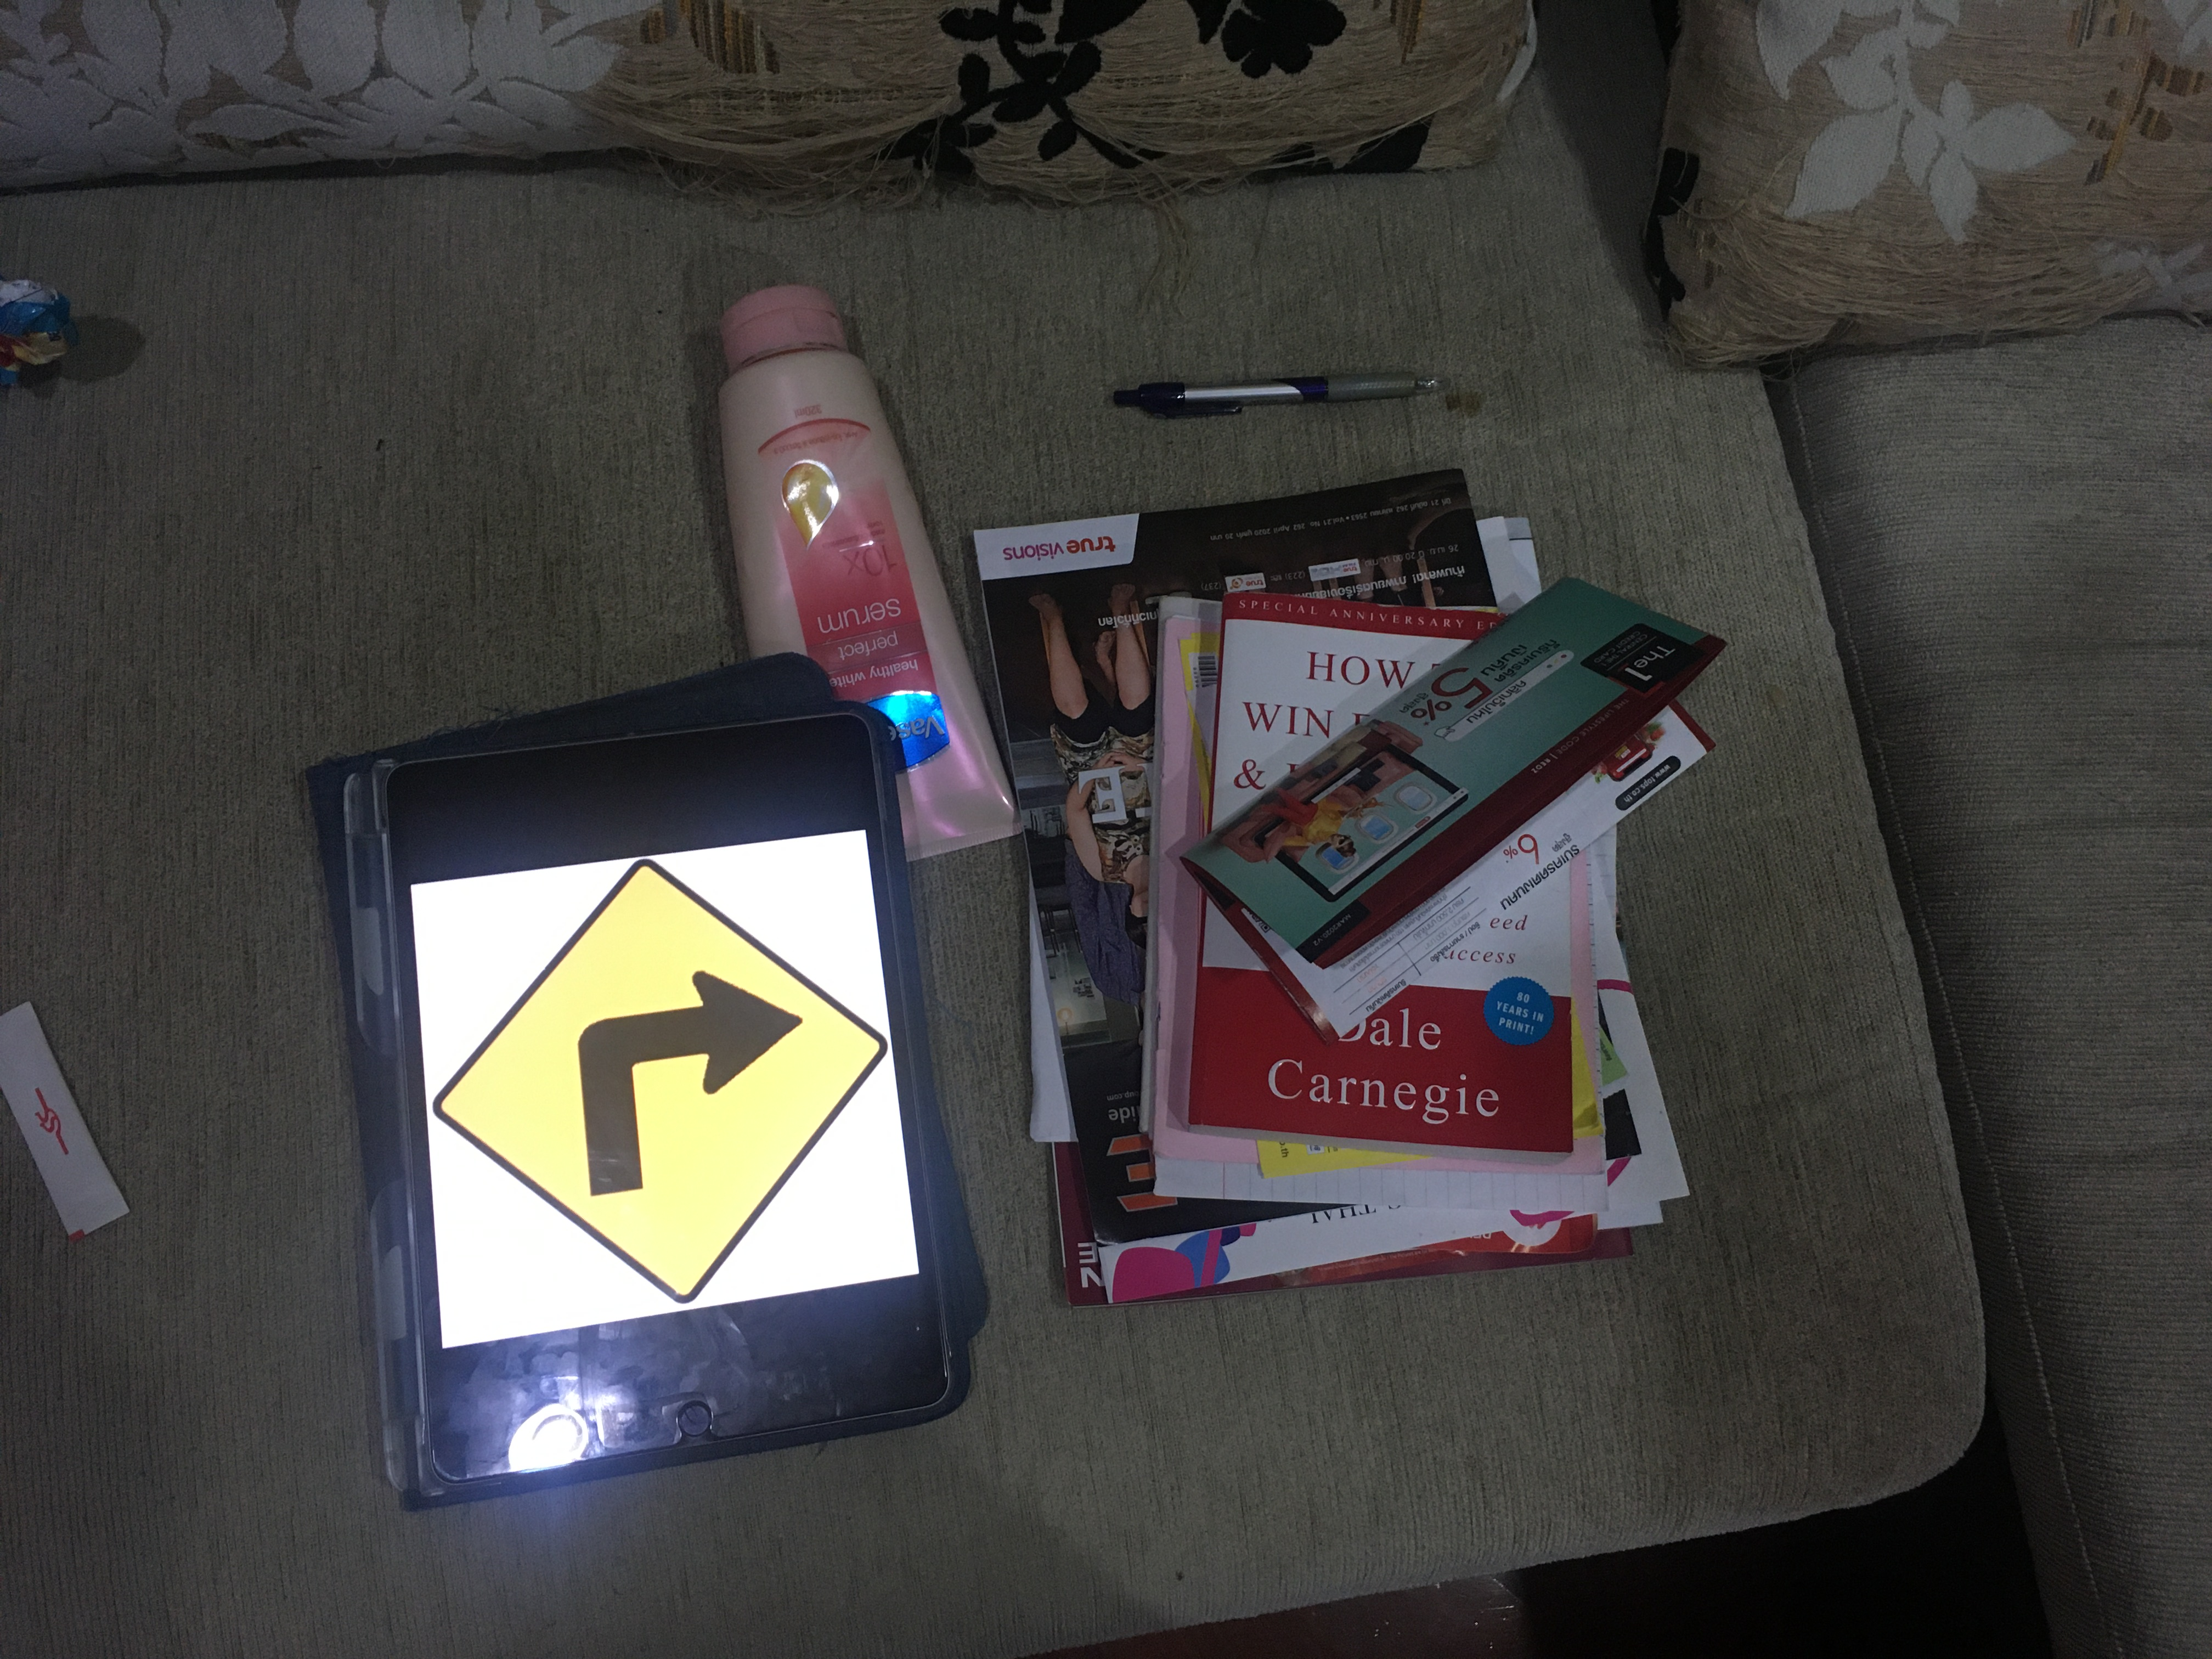right: (419, 862, 902, 1320)
